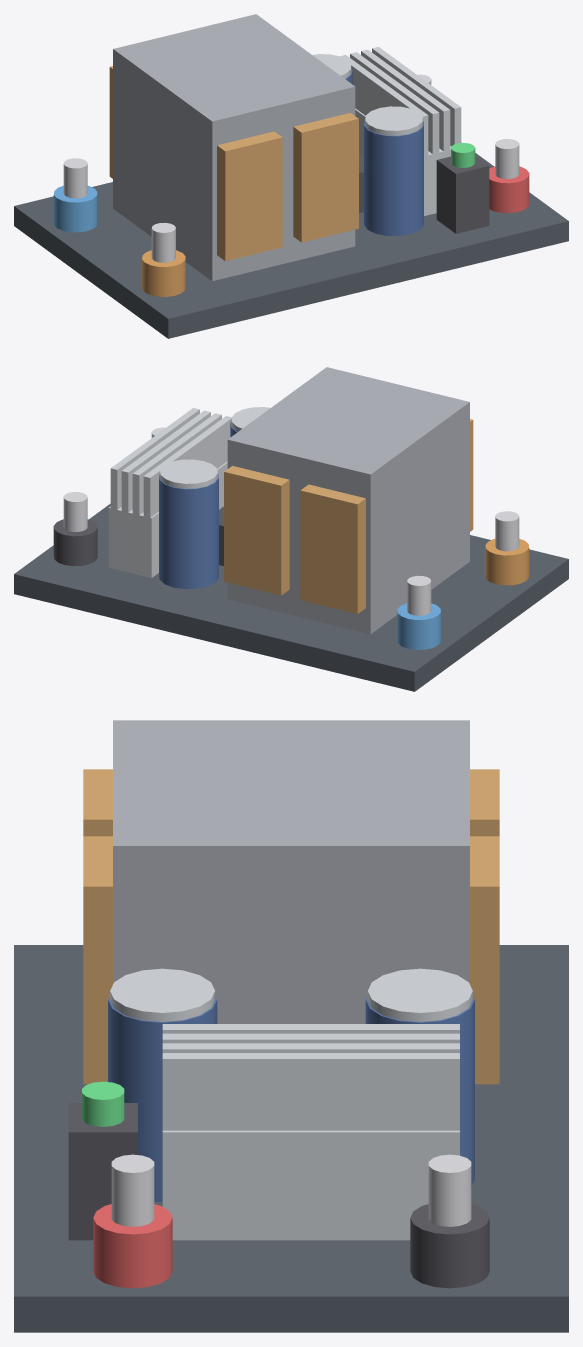
File: transformador_ac_dc.glb
3 renders of one model, top to bottom at view 1: azimuth 30°, elevation 25°; view 2: azimuth 150°, elevation 25°; view 3: azimuth 270°, elevation 25°, orthographic. The views are drawn at different scales.
Visible parts, largest first — view 1: NucleoLaminado, BasePlaca, BobinaPrimaria, BobinaSecundaria, DisipadorDC, CapacitorFiltro1, PortaLed, Borne_AC2_Collar, Borne_AC1_Collar, Borne_Pos_Collar, CapacitorFiltro1Tapa, Borne_AC2 (+4 smaller); view 2: NucleoLaminado, BasePlaca, DisipadorDC, BobinaPrimaria, BobinaSecundaria, CapacitorFiltro2, Borne_AC1_Collar, Borne_Neg_Collar, Borne_AC2_Collar, CapacitorFiltro2Tapa, Borne_AC1, Borne_AC2 (+2 smaller); view 3: NucleoLaminado, BasePlaca, DisipadorDC, BobinaSecundaria, CapacitorFiltro1, PortaLed, Borne_Pos_Collar, Borne_Neg_Collar, CapacitorFiltro1Tapa, CapacitorFiltro2Tapa, BobinaPrimaria, CapacitorFiltro2 (+3 smaller).
Boxes of the visible parts, x1,y1,x2,y2 form: NucleoLaminado: [113, 14, 355, 281]; BasePlaca: [14, 142, 568, 338]; BobinaPrimaria: [109, 66, 282, 260]; BobinaSecundaria: [293, 113, 358, 242]; DisipadorDC: [340, 47, 461, 215]; CapacitorFiltro1: [364, 120, 423, 236]; PortaLed: [436, 156, 489, 233]; Borne_AC2_Collar: [53, 185, 97, 232]; Borne_AC1_Collar: [142, 250, 185, 296]; Borne_Pos_Collar: [489, 166, 529, 213]; CapacitorFiltro1Tapa: [365, 106, 422, 135]; Borne_AC2: [63, 158, 87, 198]; NucleoLaminado: [227, 367, 469, 634]; BasePlaca: [14, 503, 568, 691]; DisipadorDC: [108, 408, 231, 577]; BobinaPrimaria: [300, 419, 473, 613]; BobinaSecundaria: [224, 466, 289, 595]; CapacitorFiltro2: [159, 473, 218, 589]; Borne_AC1_Collar: [485, 538, 529, 585]; Borne_Neg_Collar: [53, 519, 97, 566]; Borne_AC2_Collar: [397, 603, 440, 649]; CapacitorFiltro2Tapa: [160, 459, 217, 488]; Borne_AC1: [495, 511, 519, 551]; Borne_AC2: [407, 575, 431, 615]; NucleoLaminado: [113, 720, 469, 1023]; BasePlaca: [14, 945, 568, 1332]; DisipadorDC: [162, 1024, 459, 1240]; BobinaSecundaria: [83, 836, 499, 1084]; CapacitorFiltro1: [108, 996, 217, 1202]; PortaLed: [68, 1103, 137, 1240]; Borne_Pos_Collar: [93, 1204, 172, 1288]; Borne_Neg_Collar: [410, 1204, 489, 1288]; CapacitorFiltro1Tapa: [110, 968, 215, 1021]; CapacitorFiltro2Tapa: [367, 968, 472, 1021]; BobinaPrimaria: [83, 769, 499, 836]; CapacitorFiltro2: [365, 996, 474, 1186].
Bounding box in the file's own units: 0.84 × 0.36 × 0.56.
